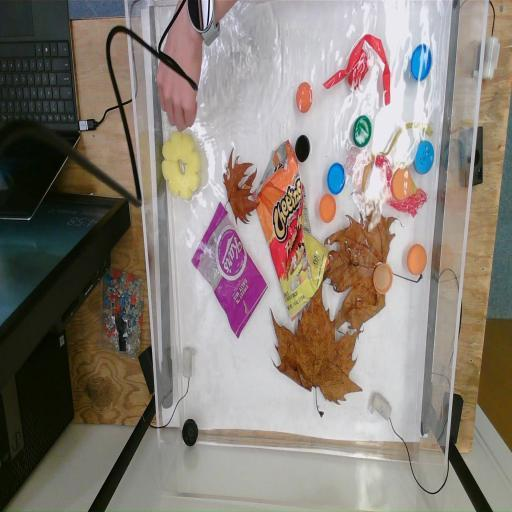Bottle Cap: (412, 138, 436, 176), (410, 43, 432, 82), (372, 262, 394, 296), (325, 162, 347, 194), (406, 241, 426, 276), (392, 168, 412, 200), (353, 117, 372, 149), (317, 194, 338, 222), (296, 80, 314, 112), (182, 418, 199, 450), (295, 136, 309, 162)
Cone Cap: (348, 52, 370, 88)
Leaf: (273, 278, 363, 426), (320, 210, 422, 332), (224, 150, 260, 226)
Netting: (376, 152, 428, 220), (344, 142, 378, 196)
Plastic Bag: (254, 144, 329, 310), (189, 202, 269, 341)
Plastic Strand: (320, 32, 392, 111), (362, 121, 434, 186)
Sponge: (161, 131, 202, 199)
